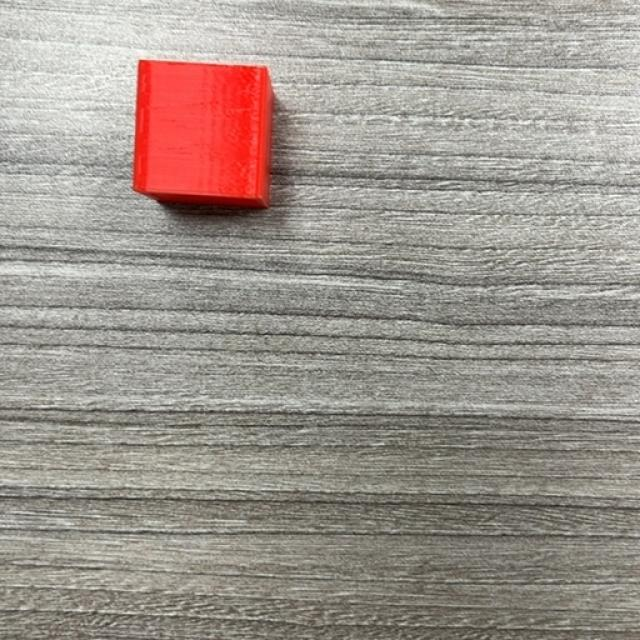Rojo: (132, 59, 276, 212)
